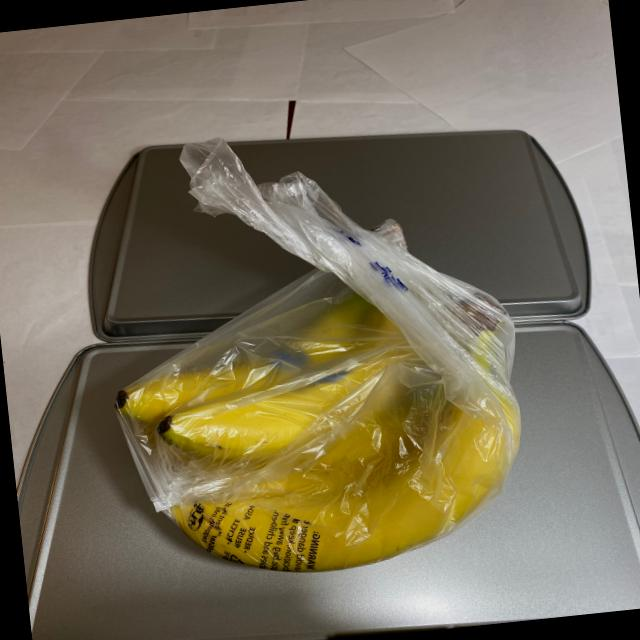banana: (107, 264, 542, 594)
